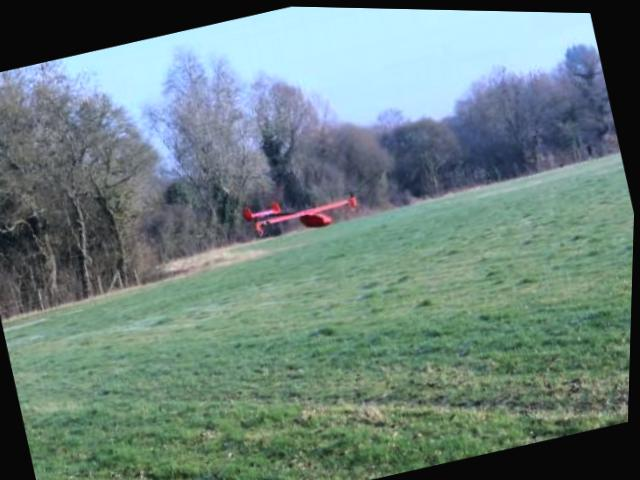uav: (232, 158, 372, 249)
